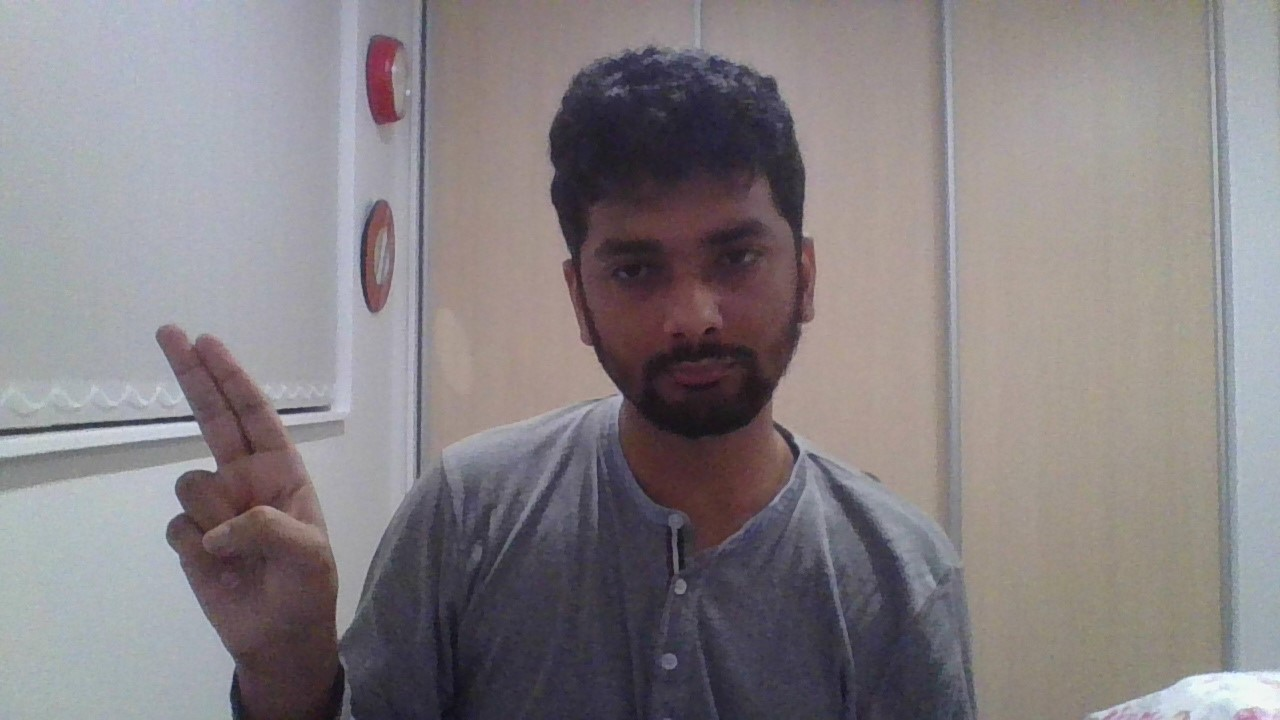peace: (154, 324, 340, 652)
